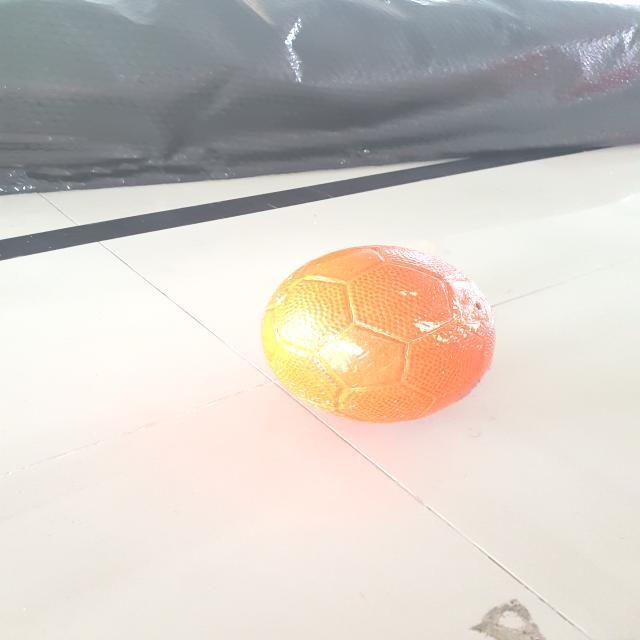bola: (249, 232, 508, 438)
